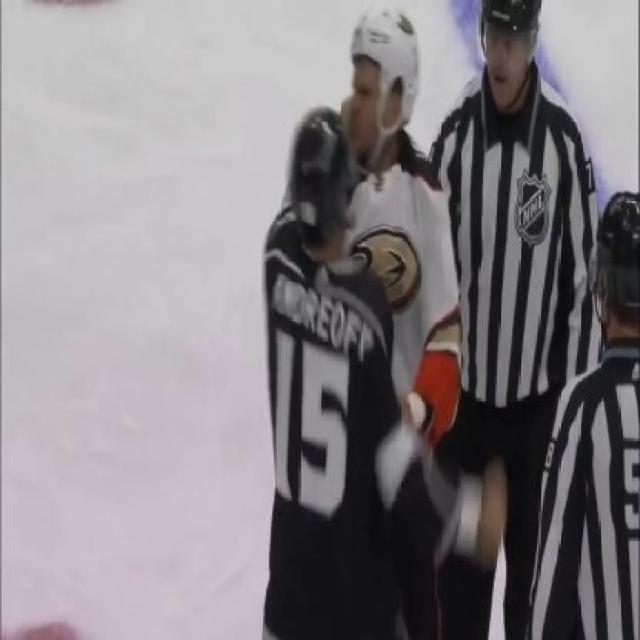fight: (253, 0, 469, 640)
non-fight: (424, 0, 602, 640), (517, 184, 640, 640)
